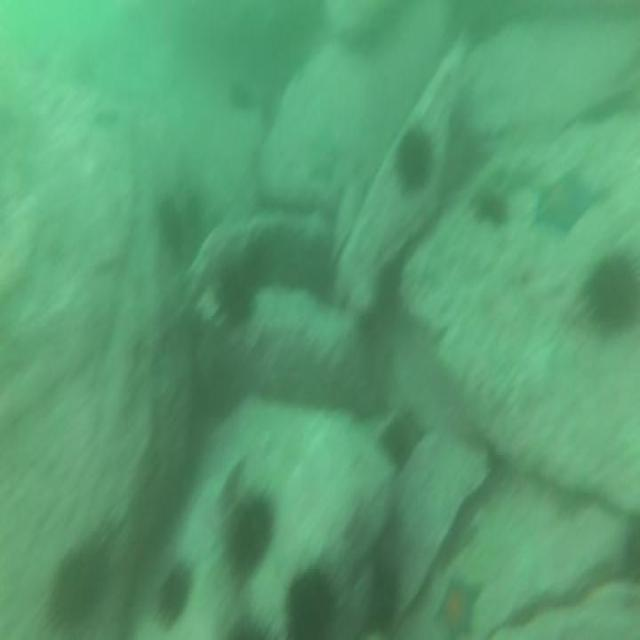echinus: (215, 479, 277, 599), (584, 246, 640, 343), (49, 548, 103, 636), (284, 561, 338, 640), (297, 231, 339, 308), (394, 123, 434, 198), (214, 264, 257, 332), (253, 228, 294, 296), (364, 564, 402, 635), (380, 405, 424, 466), (154, 563, 192, 632), (152, 190, 188, 254), (219, 610, 277, 640), (473, 185, 508, 231), (230, 79, 256, 119)
starfish: (431, 561, 486, 640), (534, 168, 596, 235)
